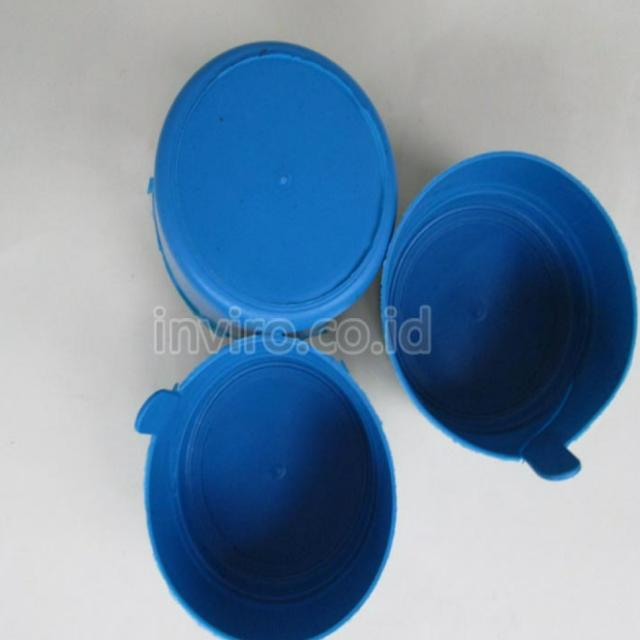TutupGalon: (380, 149, 638, 480), (132, 338, 397, 640), (146, 38, 400, 338)
